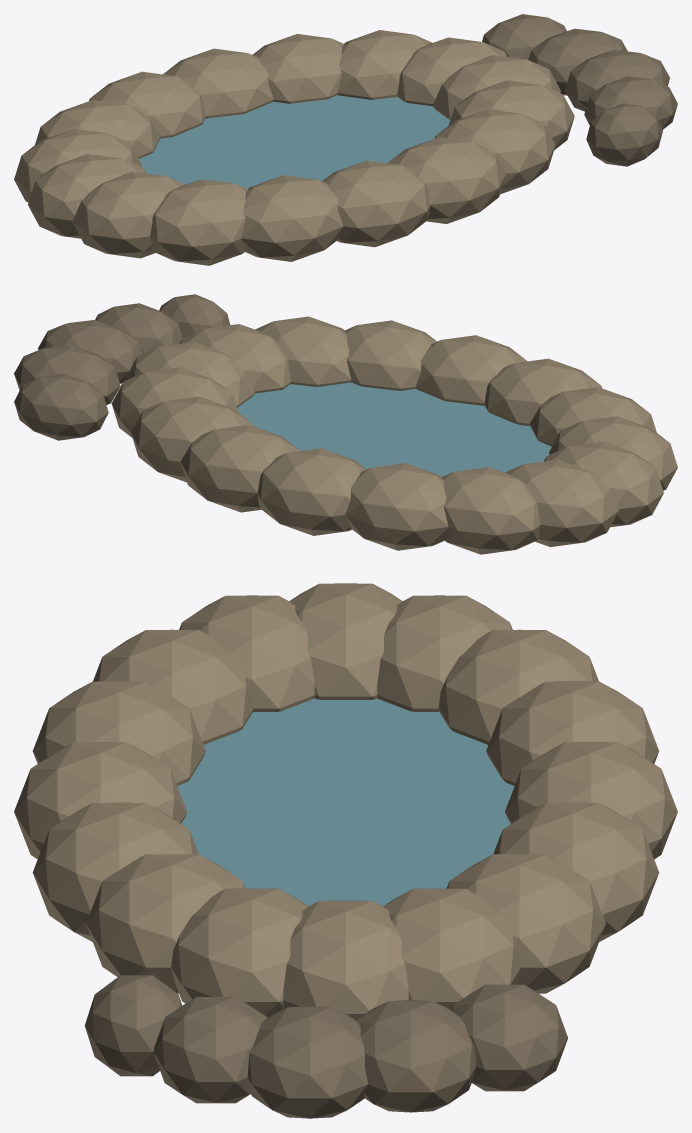
Rendered from footprint.glb.
3 renders of one model, top to bottom at view 1: azimuth 30°, elevation 25°; view 2: azimuth 150°, elevation 25°; view 3: azimuth 270°, elevation 25°, orthographic. The views are drawn at different scales.
Parts seen in each view (by area): view 1: Cylinder, Icosphere.011, Icosphere.010, Icosphere.012, Icosphere.013, Icosphere.009, Icosphere.014, Icosphere.004, Icosphere.003, Icosphere.008, Icosphere.002, Icosphere.005 (+10 smaller); view 2: Cylinder, Icosphere.005, Icosphere.006, Icosphere.004, Icosphere.003, Icosphere.007, Icosphere.002, Icosphere.012, Icosphere.013, Icosphere.016, Icosphere.008, Icosphere.014 (+10 smaller); view 3: Cylinder, Icosphere.002, Icosphere.015, Icosphere.014, Icosphere, Icosphere.001, Icosphere.018, Icosphere.003, Icosphere.013, Icosphere.017, Icosphere.004, Icosphere.012 (+10 smaller).
Part boxes in pixels (x1=…): Cylinder: x1=139, y1=95, x2=450, y2=188; Icosphere.011: x1=241, y1=175, x2=343, y2=261; Icosphere.010: x1=150, y1=179, x2=248, y2=265; Icosphere.012: x1=322, y1=160, x2=430, y2=247; Icosphere.013: x1=388, y1=137, x2=506, y2=223; Icosphere.009: x1=72, y1=171, x2=185, y2=258; Icosphere.014: x1=434, y1=109, x2=555, y2=194; Icosphere.004: x1=163, y1=48, x2=273, y2=118; Icosphere.003: x1=252, y1=34, x2=344, y2=103; Icosphere.008: x1=28, y1=154, x2=146, y2=238; Icosphere.002: x1=337, y1=30, x2=432, y2=99; Icosphere.005: x1=89, y1=71, x2=205, y2=138; Cylinder: x1=237, y1=382, x2=551, y2=476; Icosphere.005: x1=345, y1=463, x2=448, y2=550; Icosphere.006: x1=441, y1=467, x2=540, y2=554; Icosphere.004: x1=257, y1=448, x2=366, y2=535; Icosphere.003: x1=181, y1=425, x2=300, y2=512; Icosphere.007: x1=505, y1=459, x2=618, y2=547; Icosphere.002: x1=131, y1=396, x2=252, y2=482; Icosphere.012: x1=415, y1=335, x2=527, y2=405; Icosphere.013: x1=344, y1=320, x2=436, y2=390; Icosphere.016: x1=14, y1=373, x2=108, y2=440; Icosphere.008: x1=544, y1=441, x2=663, y2=527; Icosphere.014: x1=255, y1=316, x2=351, y2=386; Cylinder: x1=177, y1=698, x2=514, y2=906; Icosphere.002: x1=446, y1=854, x2=605, y2=993; Icosphere.015: x1=171, y1=888, x2=308, y2=1017; Icosphere.014: x1=86, y1=854, x2=245, y2=993; Icosphere: x1=283, y1=900, x2=408, y2=1019; Icosphere.001: x1=383, y1=888, x2=520, y2=1010; Icosphere.018: x1=247, y1=1006, x2=367, y2=1118; Icosphere.003: x1=493, y1=802, x2=659, y2=941; Icosphere.013: x1=32, y1=802, x2=198, y2=941; Icosphere.017: x1=356, y1=1000, x2=476, y2=1112; Icosphere.004: x1=505, y1=742, x2=677, y2=859; Icosphere.012: x1=14, y1=742, x2=186, y2=859.
Bounding box in the file's own units: 7.9 × 0.9 × 4.6.
